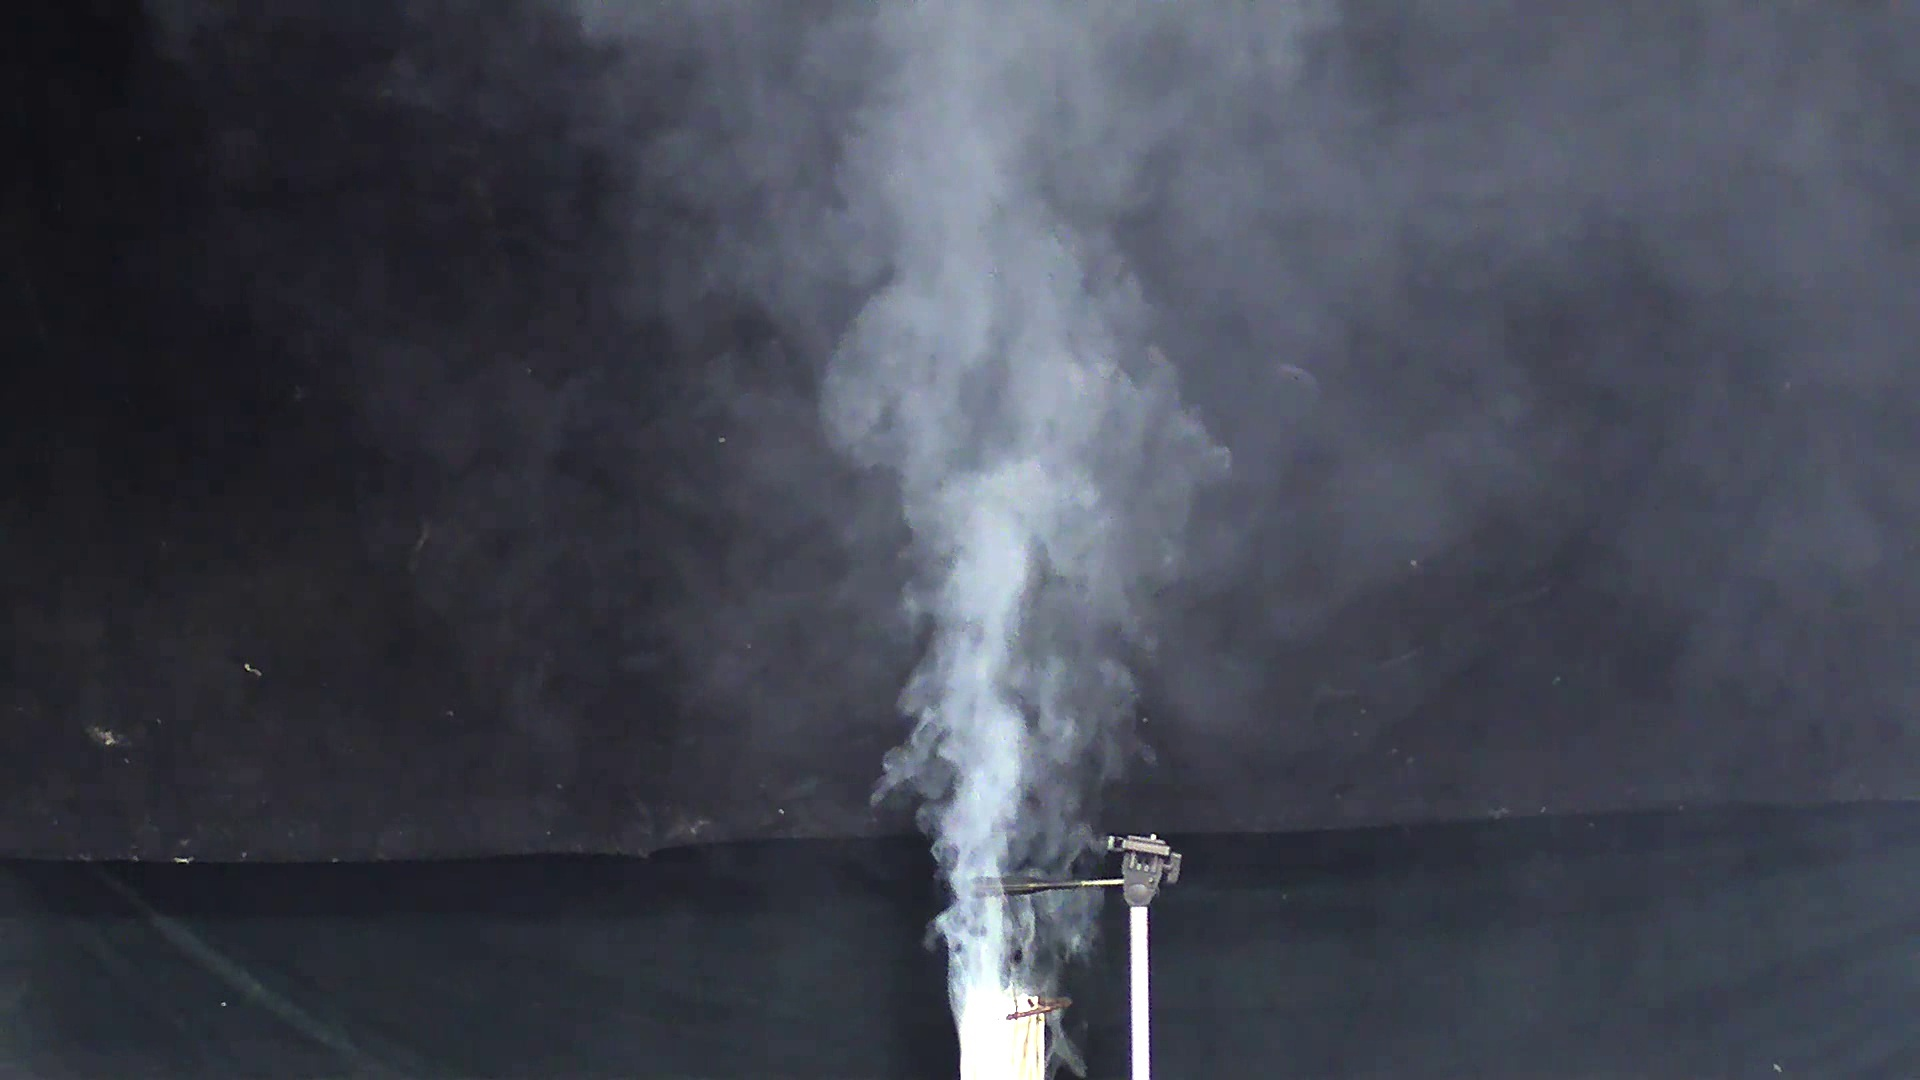smoke: (675, 1, 1226, 959)
